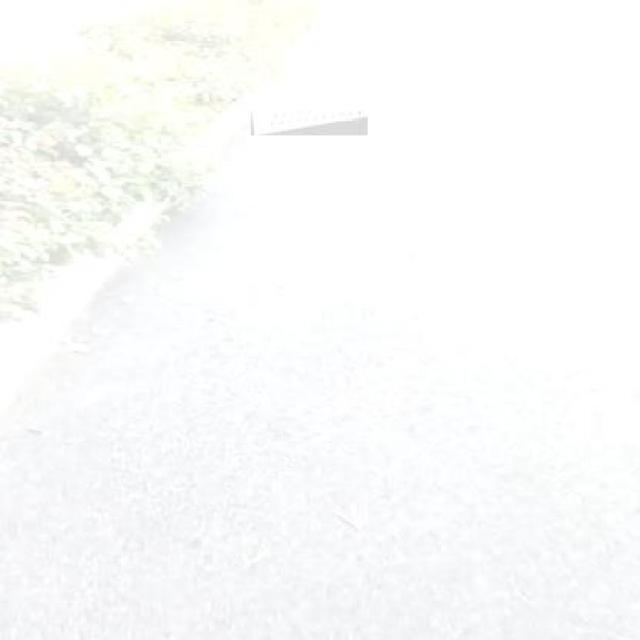Manhole: (252, 110, 368, 136)
